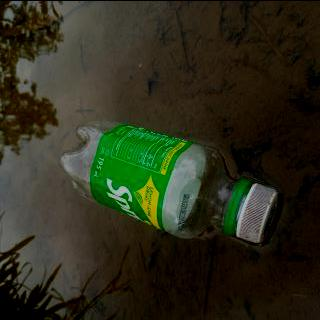bottle: (59, 116, 282, 246)
